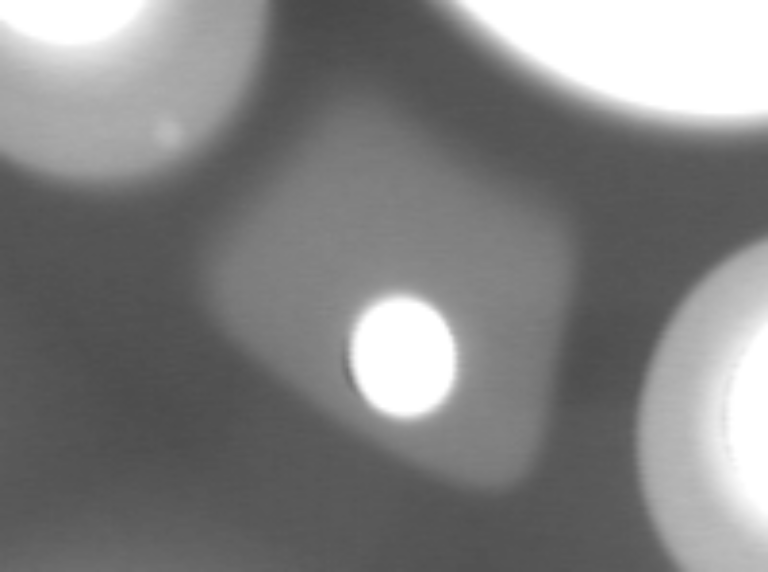defect: (161, 123, 196, 159)
